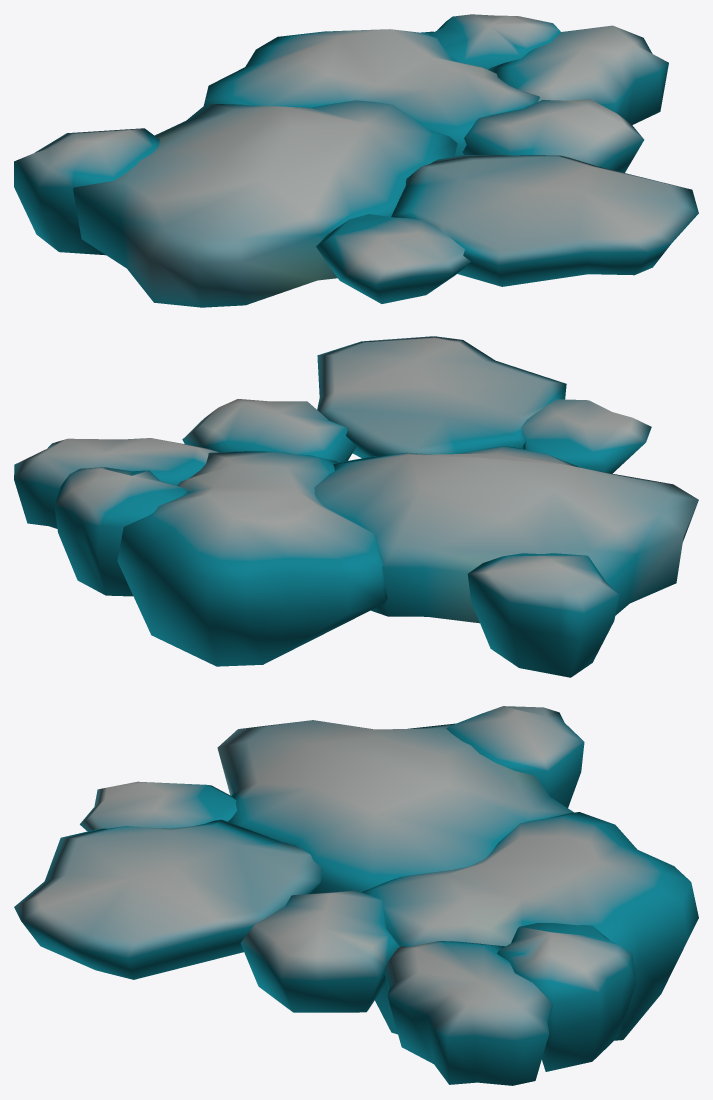
3 views of the same model, one above another, from view 1: azimuth 30°, elevation 25°; view 2: azimuth 150°, elevation 25°; view 3: azimuth 270°, elevation 25° (orthographic). The views are drawn at different scales.
Parts seen in each view (by area): view 1: G:\FFXIV-MapTools\exports\y6t1\bg\ex5\02_ykt_y6\twn\y6t1\bgp; view 2: G:\FFXIV-MapTools\exports\y6t1\bg\ex5\02_ykt_y6\twn\y6t1\bgp; view 3: G:\FFXIV-MapTools\exports\y6t1\bg\ex5\02_ykt_y6\twn\y6t1\bgp.
Part boxes in pixels (x1,y1,x2,y2): G:\FFXIV-MapTools\exports\y6t1\bg\ex5\02_ykt_y6\twn\y6t1\bgp: (14, 14, 698, 307); G:\FFXIV-MapTools\exports\y6t1\bg\ex5\02_ykt_y6\twn\y6t1\bgp: (14, 336, 698, 677); G:\FFXIV-MapTools\exports\y6t1\bg\ex5\02_ykt_y6\twn\y6t1\bgp: (14, 706, 698, 1085).
Bounding box in the file's own units: 27.7 × 6.8 × 24.97.
